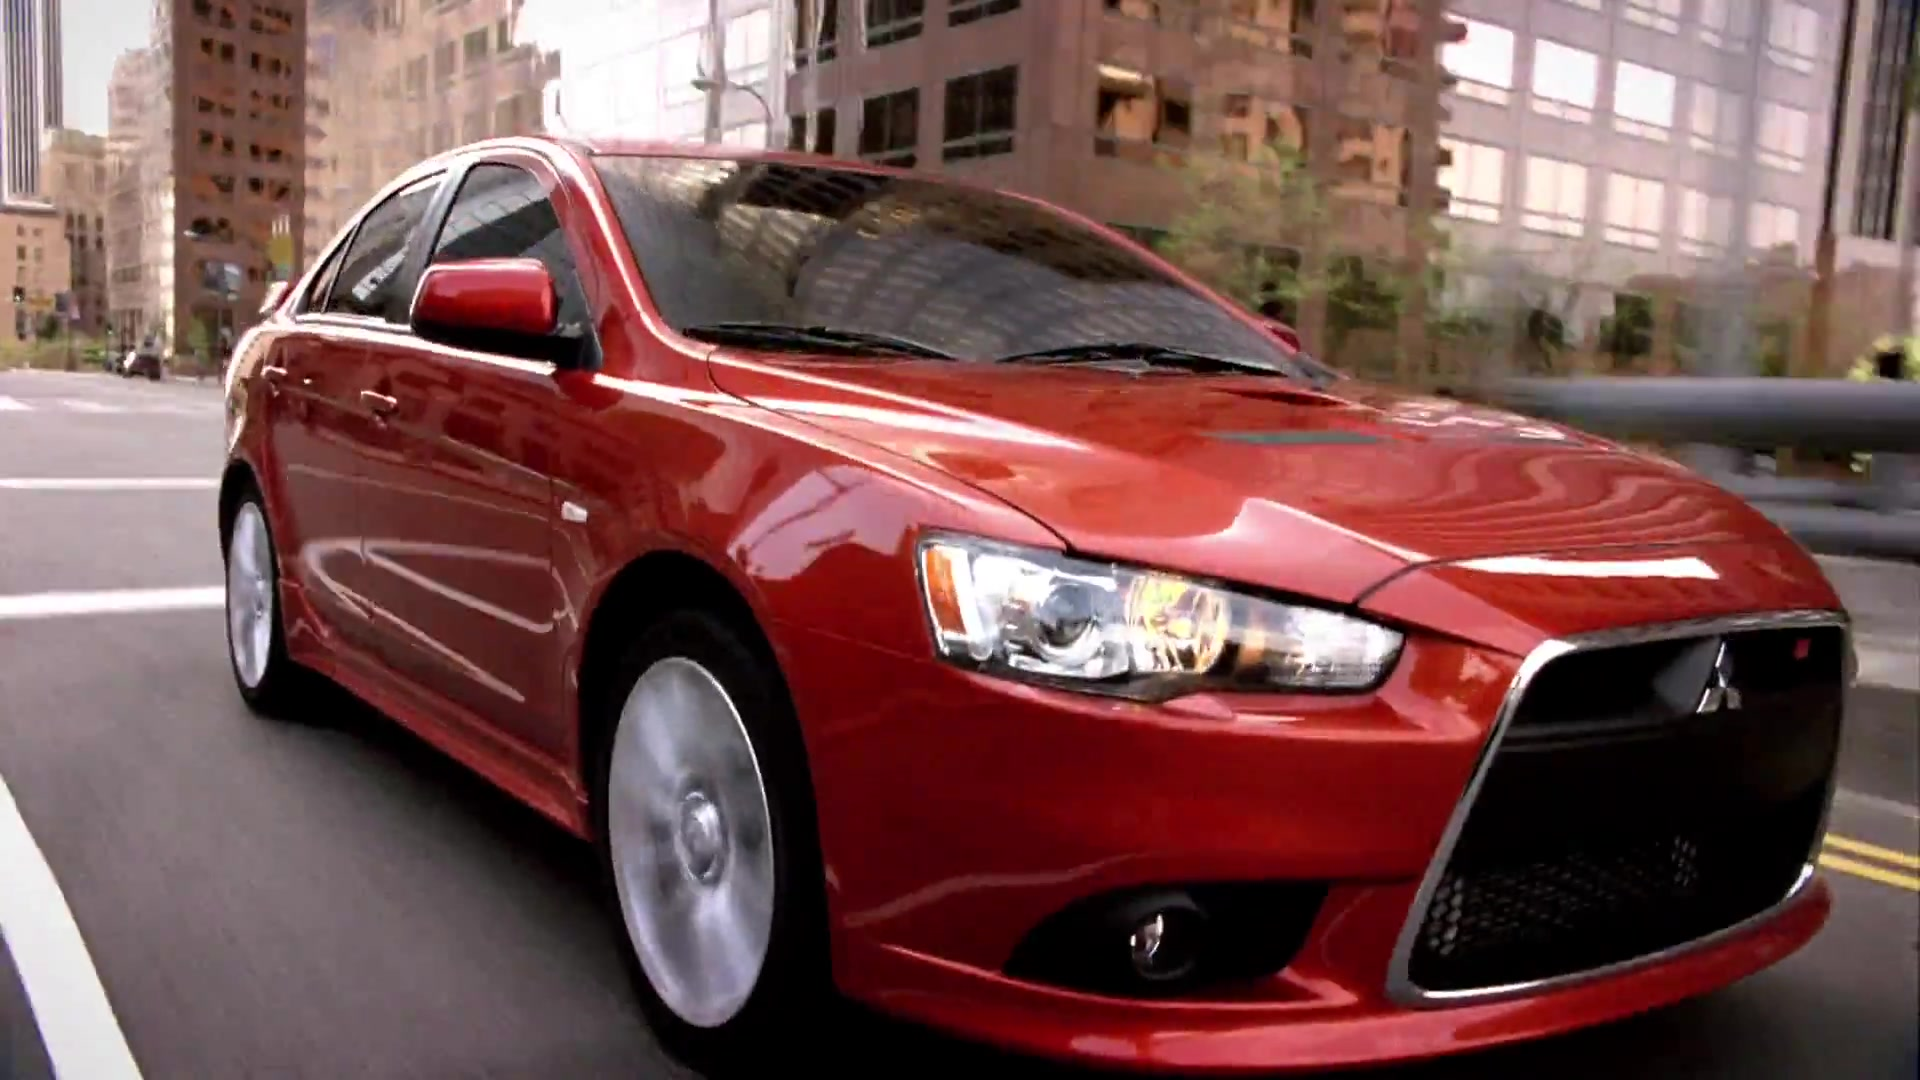car: (215, 135, 1858, 1079)
